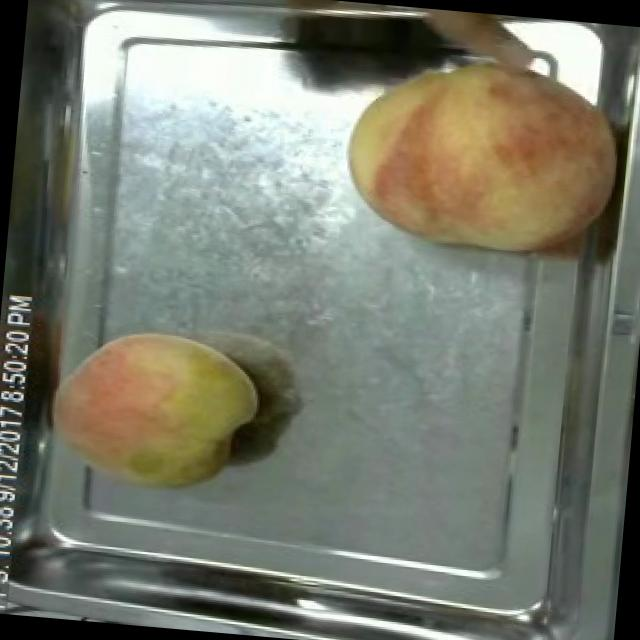Fruit: (325, 21, 633, 283), (36, 313, 269, 507)
